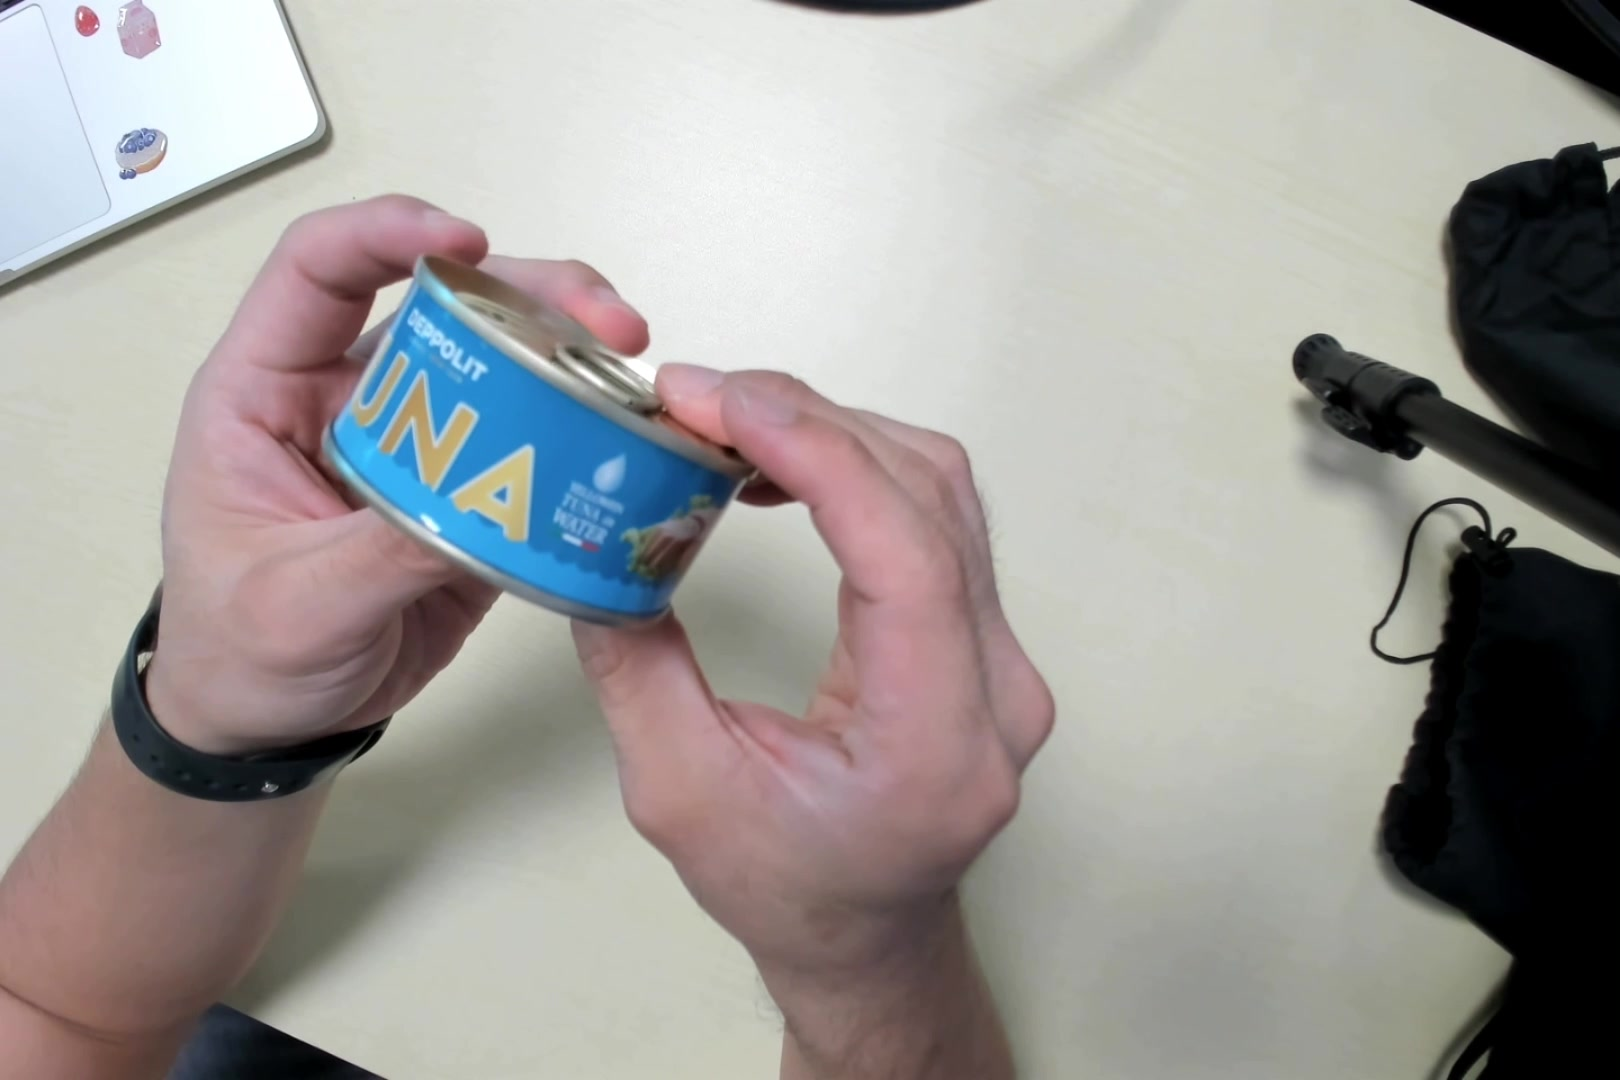CannedTunaDace_0-99g_NonHalal_NonHealthy: (319, 253, 759, 624)
